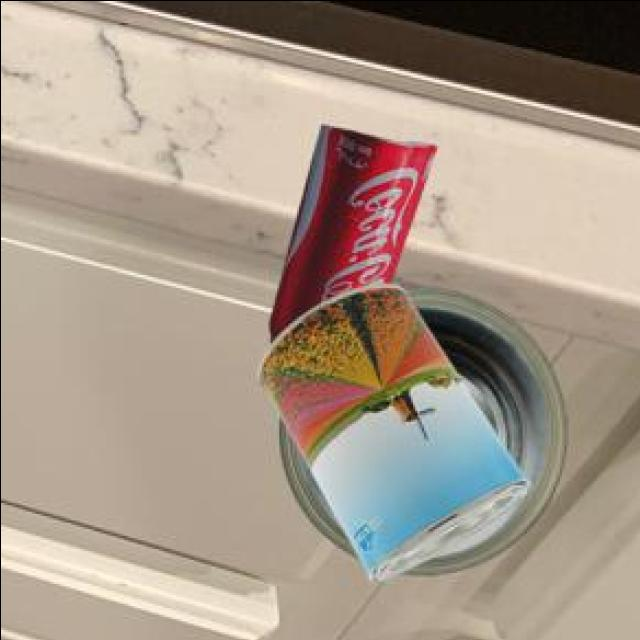logam: (279, 284, 569, 571), (260, 279, 534, 578), (273, 123, 439, 341)
